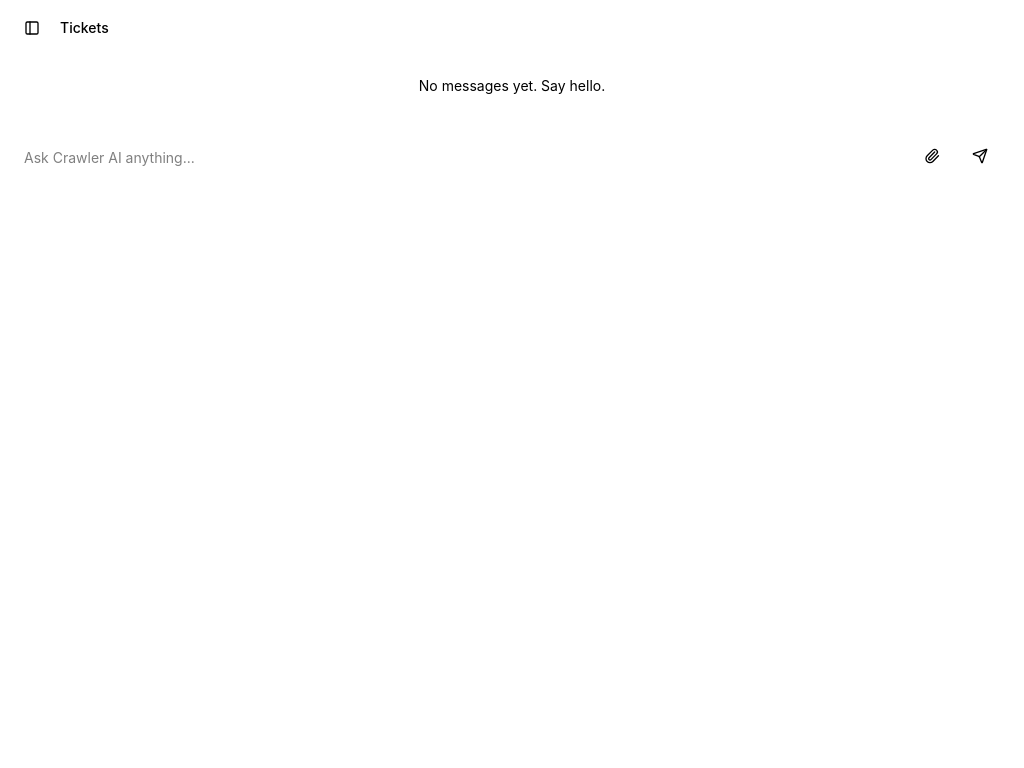
Approval cards on the way to a purchase › shows the card's security notes above the risk warning
Type "Buy a $5 ticket on shop.example.com" into the text box named "Message". click: (464,158)
box: [24,140,904,176]
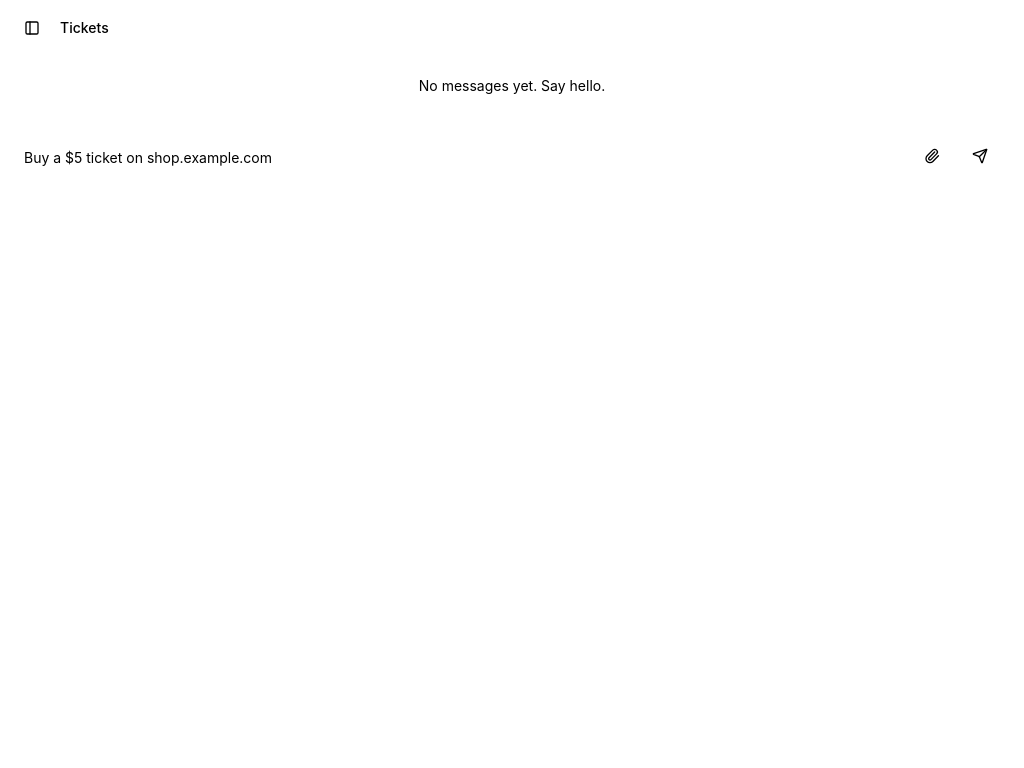
Press Enter in the text box named "Message", box [24,140,904,176]
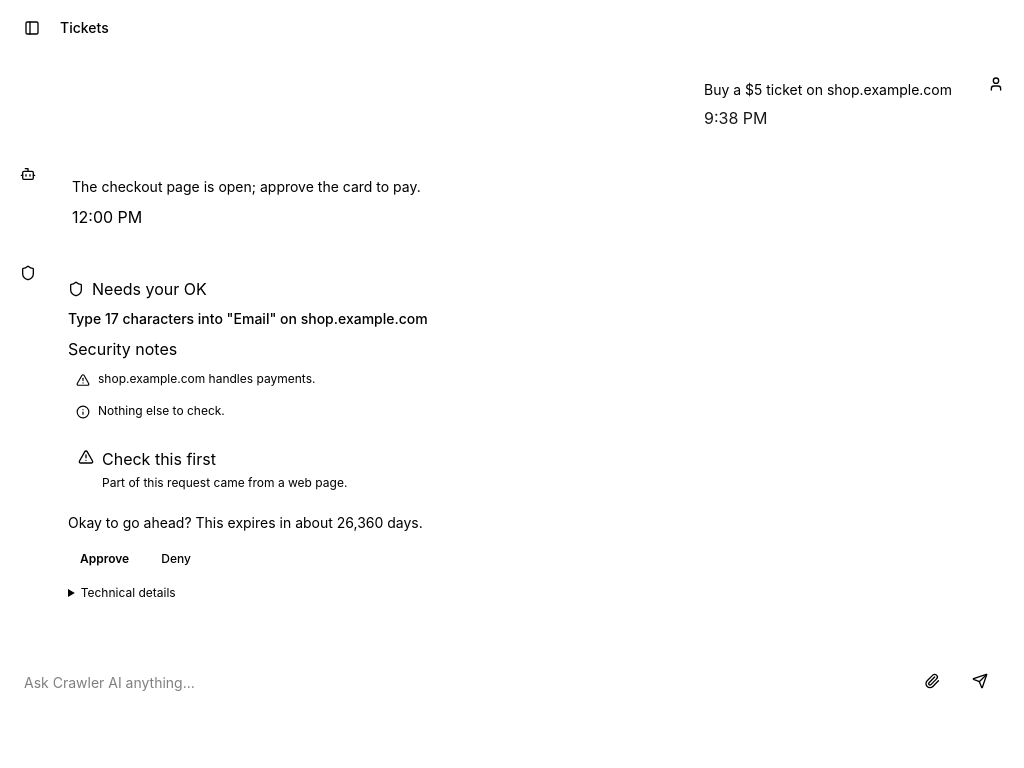
Expected: the element "Security notes" shows "shop.example.com handles payments.", [98,371,316,386]
Expected: the element "Security notes" shows "Nothing else to check.", [98,403,225,418]
